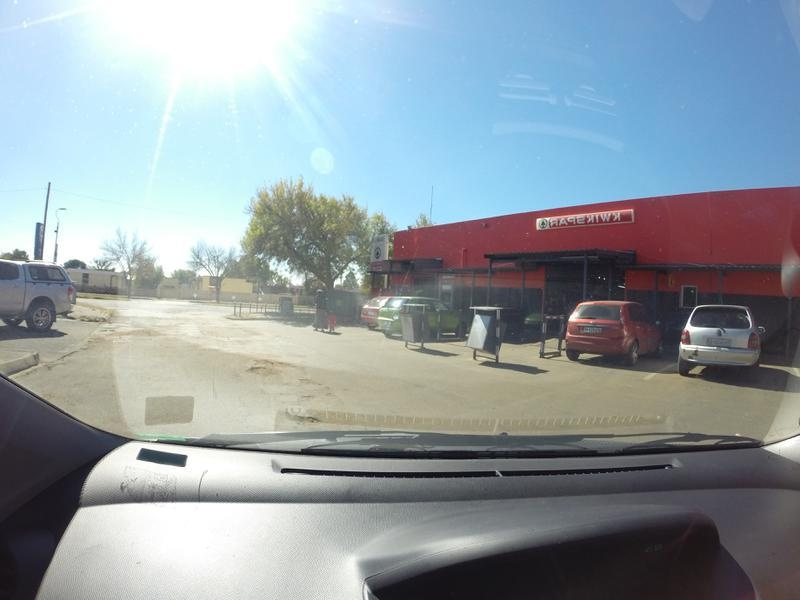pothole: (273, 412, 322, 423), (109, 326, 156, 337), (252, 360, 291, 367), (290, 380, 321, 388), (245, 366, 274, 374), (293, 394, 313, 399)
